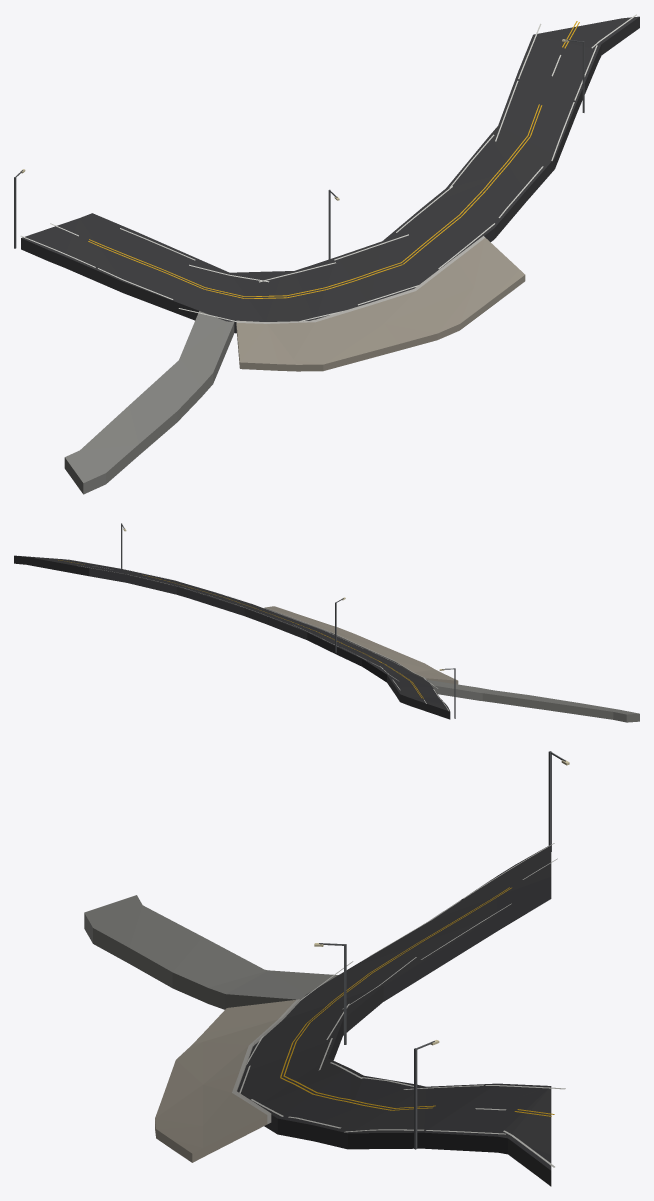
3 renders of one model, top to bottom at view 1: azimuth 30°, elevation 25°; view 2: azimuth 150°, elevation 25°; view 3: azimuth 270°, elevation 25°, orthographic. The views are drawn at different scales.
Size of the model in its own units: 79.84 by 22.83 by 32.97.
